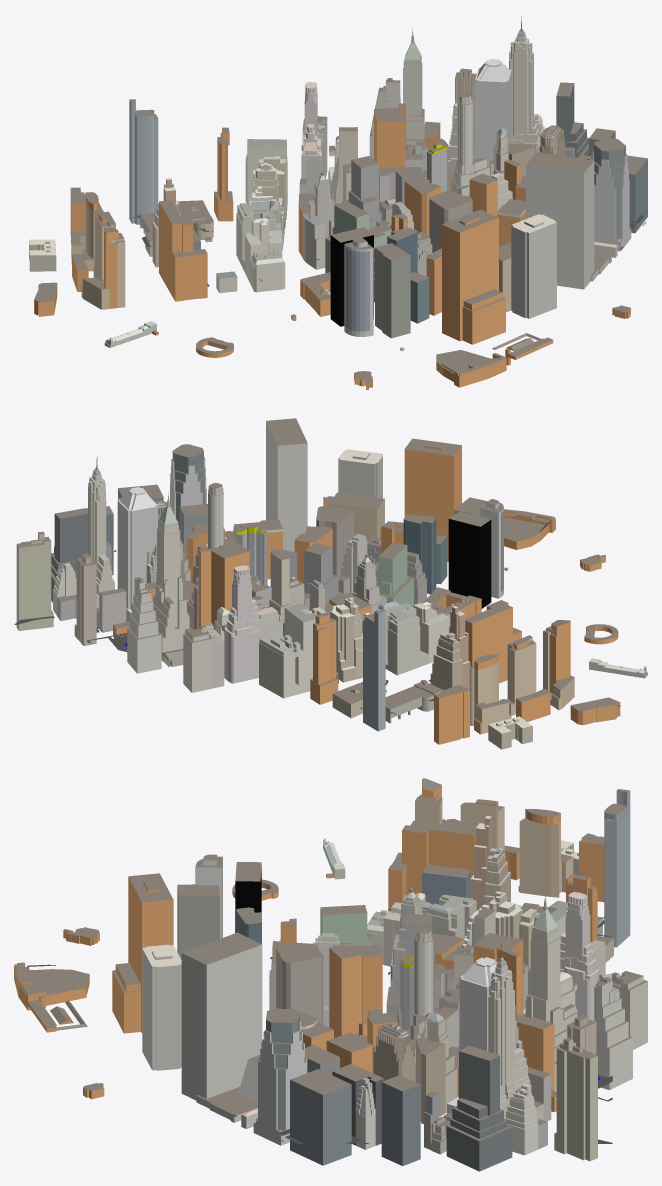
Rendered from buildings_mesh.glb.
3 renders of one model, top to bottom at view 1: azimuth 30°, elevation 25°; view 2: azimuth 150°, elevation 25°; view 3: azimuth 270°, elevation 25°, orthographic. The views are drawn at different scales.
Visible parts, largest first — view 1: 55 Water Street, One New York Plaza, 125 Broad Street, One Financial Square, 50 West Street, One State Street Plaza, element.103, element.009, element.104, Millennium Point, element.008, element (+45 smaller); view 2: 55 Water Street, One New York Plaza, element.179, element.020, One Battery Park Plaza, element.103, element.092, 50 West Street, Cunard Building, element.023, Whitehall Building Annex, The Visionaire (+48 smaller); view 3: 55 Water Street, element.114, 111 Wall Street, One Financial Square, 125 Broad Street, element.092, element.051, element.020, The Visionaire, 50 West Street, One New York Plaza, element.104 (+53 smaller).
Boxes of the visible parts, x1,y1,x2,y2 form: 55 Water Street: [526, 152, 611, 289]; One New York Plaza: [442, 209, 498, 341]; 125 Broad Street: [511, 214, 556, 318]; One Financial Square: [592, 138, 631, 251]; 50 West Street: [129, 99, 158, 224]; One State Street Plaza: [375, 243, 410, 338]; element.103: [475, 59, 511, 169]; element.009: [344, 237, 373, 336]; element.104: [509, 15, 540, 152]; Millennium Point: [81, 227, 125, 309]; element.008: [302, 171, 335, 269]; element: [450, 92, 489, 196]; 55 Water Street: [225, 418, 307, 552]; One New York Plaza: [404, 438, 461, 561]; element.179: [224, 565, 279, 683]; element.020: [153, 491, 189, 659]; One Battery Park Plaza: [448, 511, 491, 608]; element.103: [117, 487, 157, 621]; element.092: [16, 531, 53, 630]; 50 West Street: [363, 609, 385, 731]; Cunard Building: [376, 601, 428, 675]; element.023: [127, 577, 161, 673]; Whitehall Building Annex: [465, 600, 512, 683]; The Visionaire: [469, 654, 511, 734]; 55 Water Street: [181, 932, 262, 1122]; element.114: [446, 1045, 512, 1171]; 111 Wall Street: [290, 1069, 351, 1165]; One Financial Square: [253, 1008, 307, 1145]; 125 Broad Street: [142, 944, 181, 1070]; element.092: [554, 1037, 597, 1161]; element.051: [329, 945, 382, 1037]; element.020: [525, 893, 577, 1090]; The Visionaire: [518, 809, 575, 897]; 50 West Street: [604, 789, 630, 947]; One New York Plaza: [128, 873, 173, 1033]; element.104: [488, 943, 533, 1119].
Size of the model in its own units: 1073 by 308 by 854.
